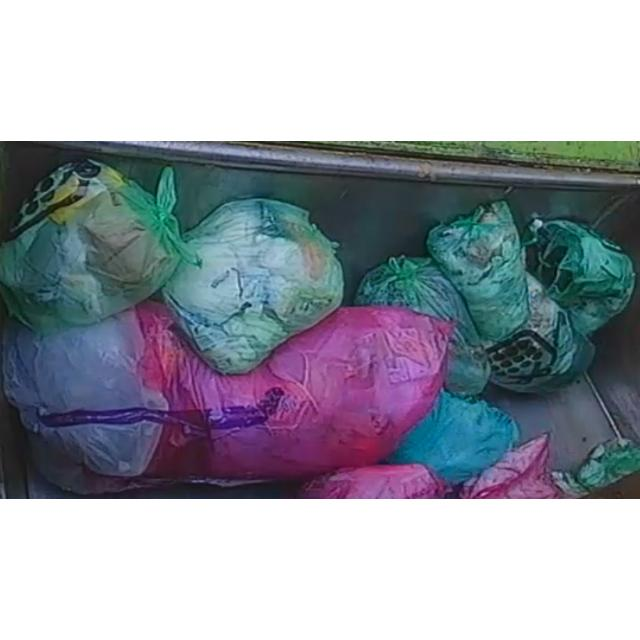general_trashbag: (0, 160, 199, 334), (162, 198, 342, 375), (356, 256, 490, 395), (426, 201, 529, 342), (525, 218, 635, 336), (486, 274, 594, 393)
other_trashbag: (4, 301, 450, 494), (389, 391, 519, 484)
